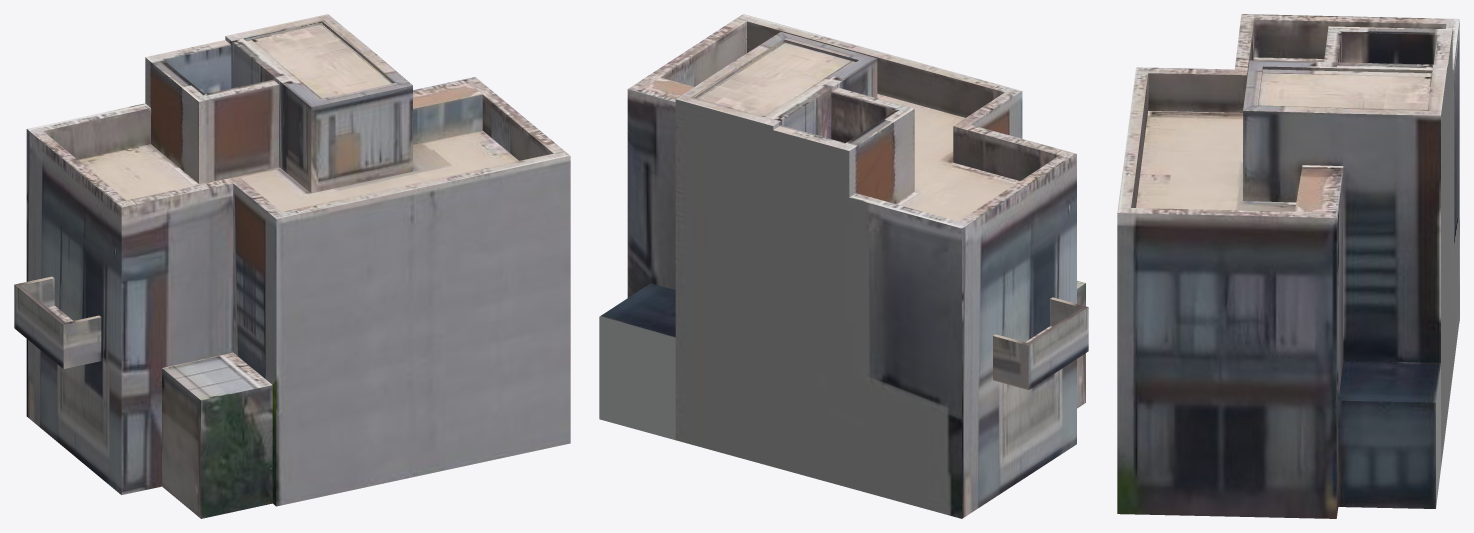
The picture shows the model from 3 angles, left to right: view 1: azimuth 30°, elevation 25°; view 2: azimuth 150°, elevation 25°; view 3: azimuth 270°, elevation 25°; orthographic projection. The views are drawn at different scales.
Visible parts, largest first — view 1: B283744033001062A0; view 2: B283744033001062A0; view 3: B283744033001062A0.
Part boxes in pixels (x1,y1,x2,y2): B283744033001062A0: (14,14,570,518); B283744033001062A0: (599,14,1088,518); B283744033001062A0: (1117,14,1459,518).
Bounding box in the file's own units: 14.87 × 11.05 × 9.7.
Materials: 1 (1 with a texture image).
